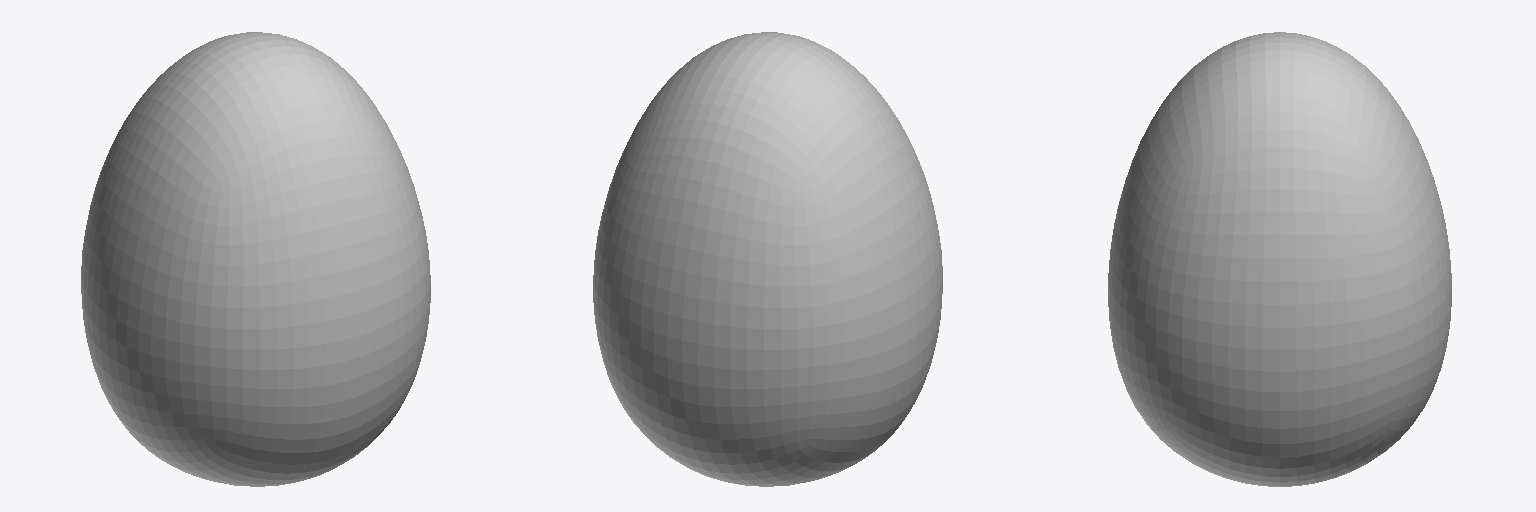
The model's file is egg.obj.
The picture shows the model from 3 angles: view 1: azimuth 30°, elevation 25°; view 2: azimuth 150°, elevation 25°; view 3: azimuth 270°, elevation 25°; orthographic projection.
Parts seen in each view (by area): view 1: Cube_Cube.001; view 2: Cube_Cube.001; view 3: Cube_Cube.001.
Part boxes in pixels (left/top/right/bottom): Cube_Cube.001: left=81, top=32, right=430, bottom=486; Cube_Cube.001: left=593, top=32, right=942, bottom=486; Cube_Cube.001: left=1108, top=32, right=1451, bottom=486.
Bounding box in the file's own units: 2.23 × 3.05 × 2.23.